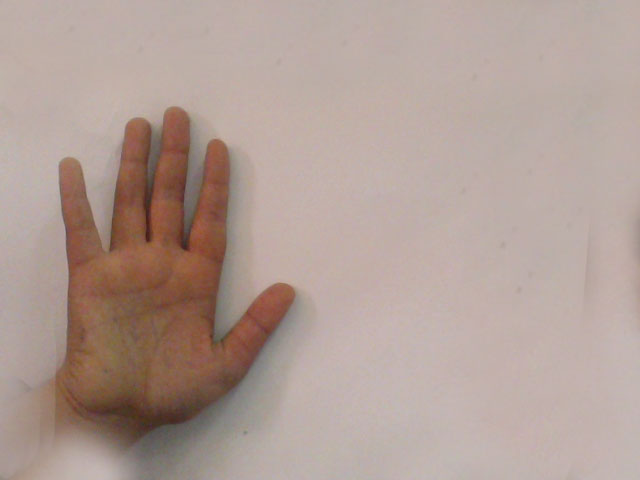hand: (42, 97, 301, 420)
